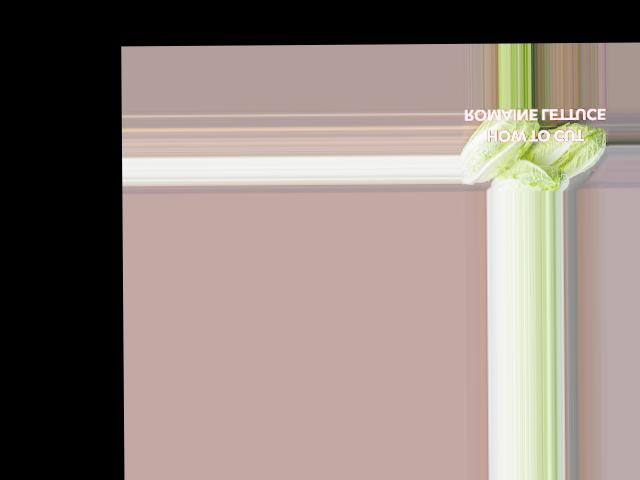lettuce: (517, 115, 610, 183)
